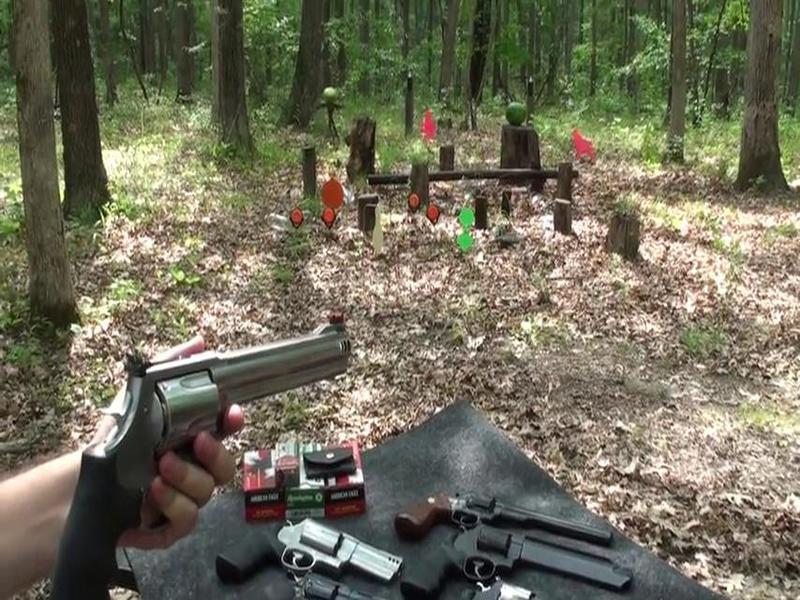Revolver: (35, 322, 383, 600)
